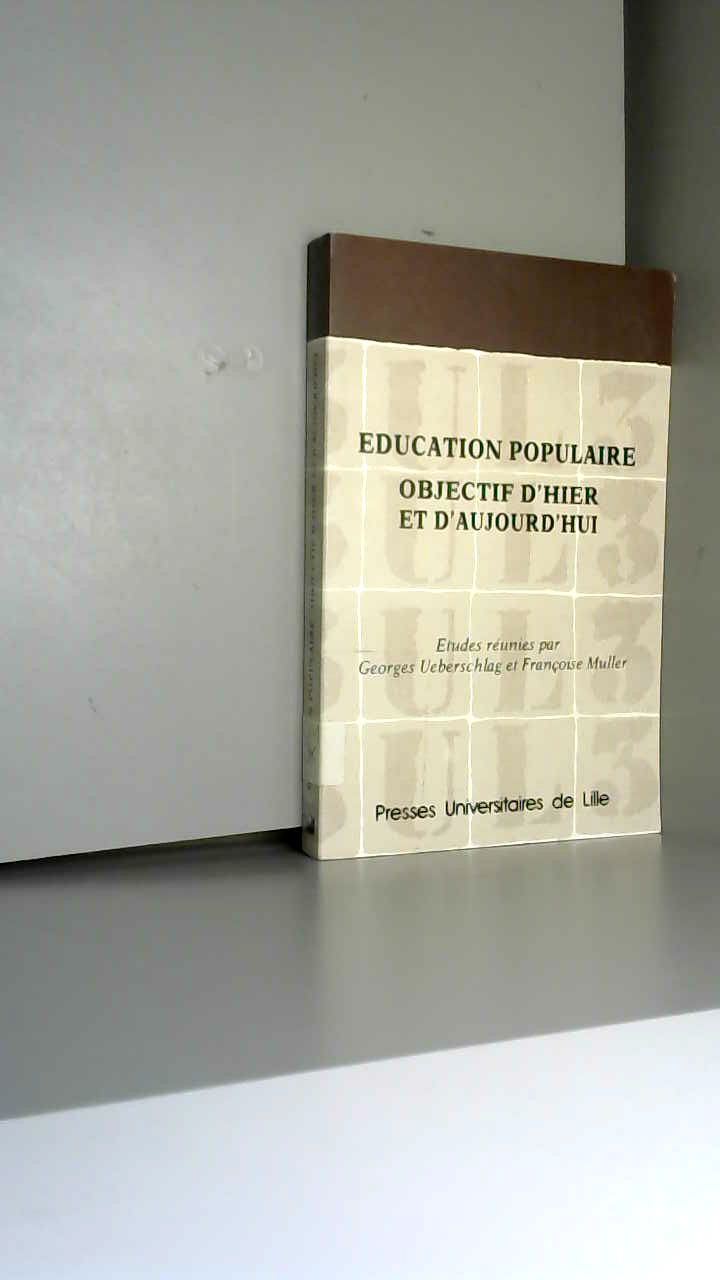book: (270, 210, 719, 942)
